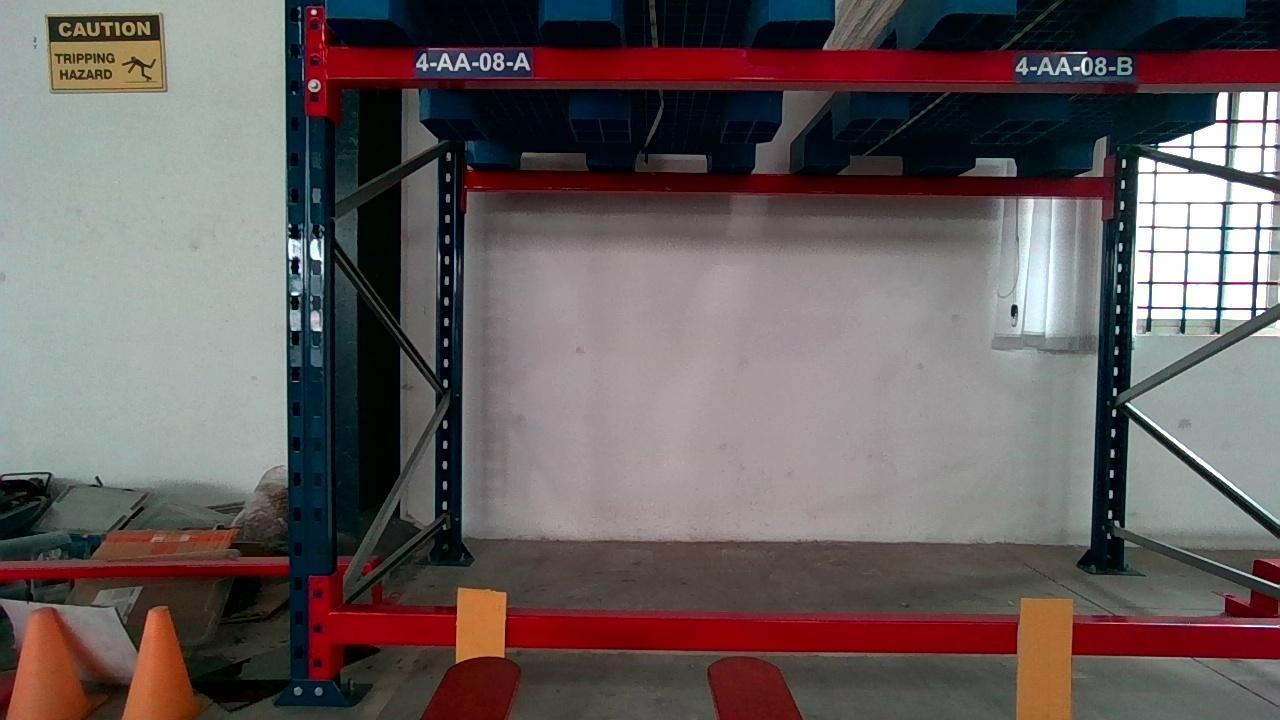h_rack: (334, 612, 1278, 658), (327, 43, 1278, 84)
orange_strip: (1012, 601, 1073, 717), (458, 584, 507, 661)
